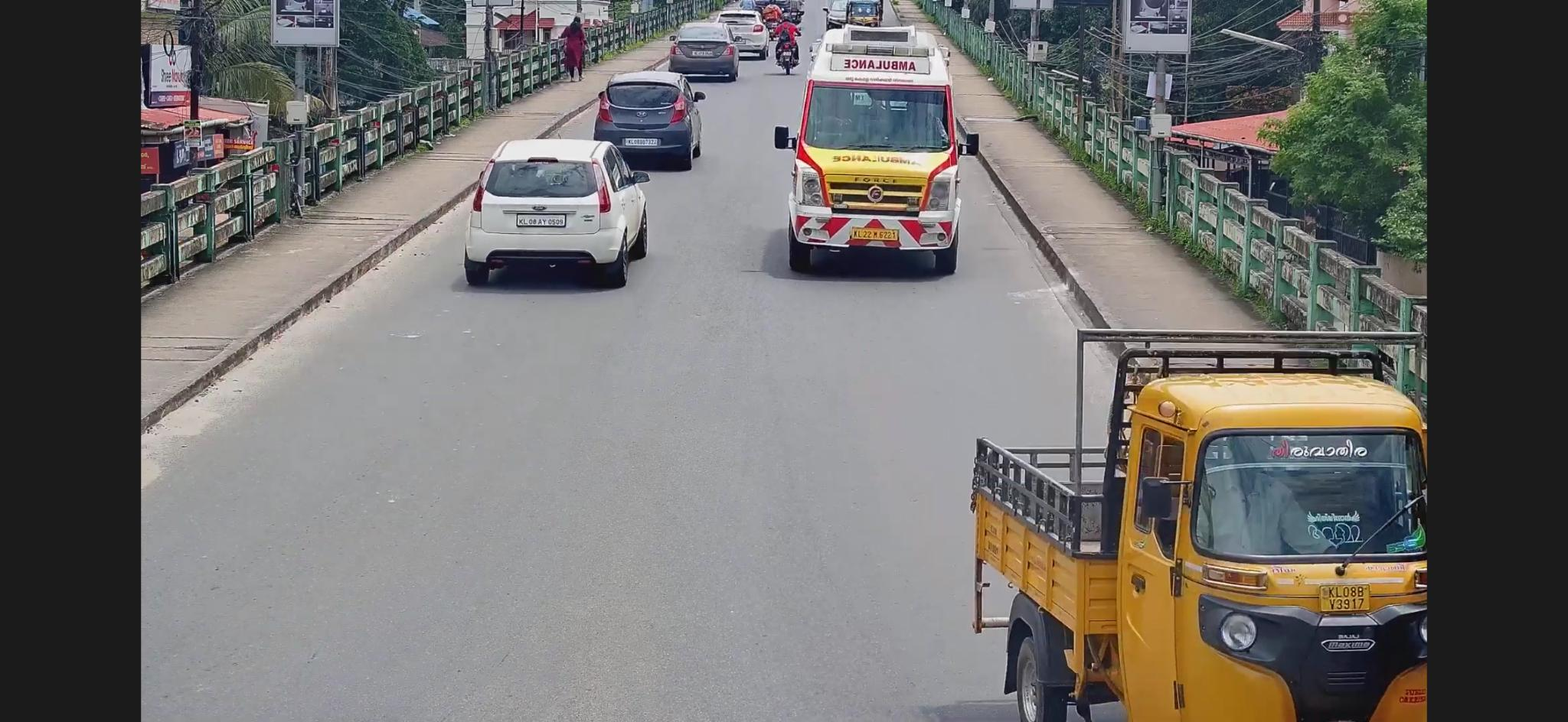ambulance: (777, 13, 961, 276)
